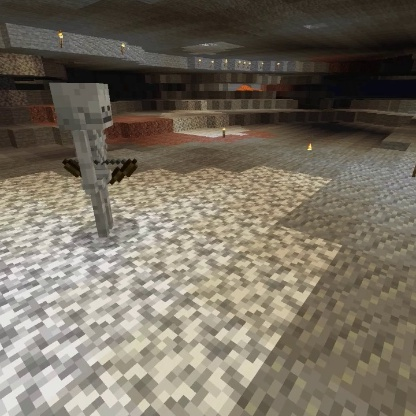skeleton: (44, 79, 141, 241)
